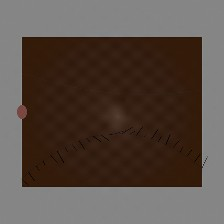pinguecula_lesion: (47, 90, 81, 117)
